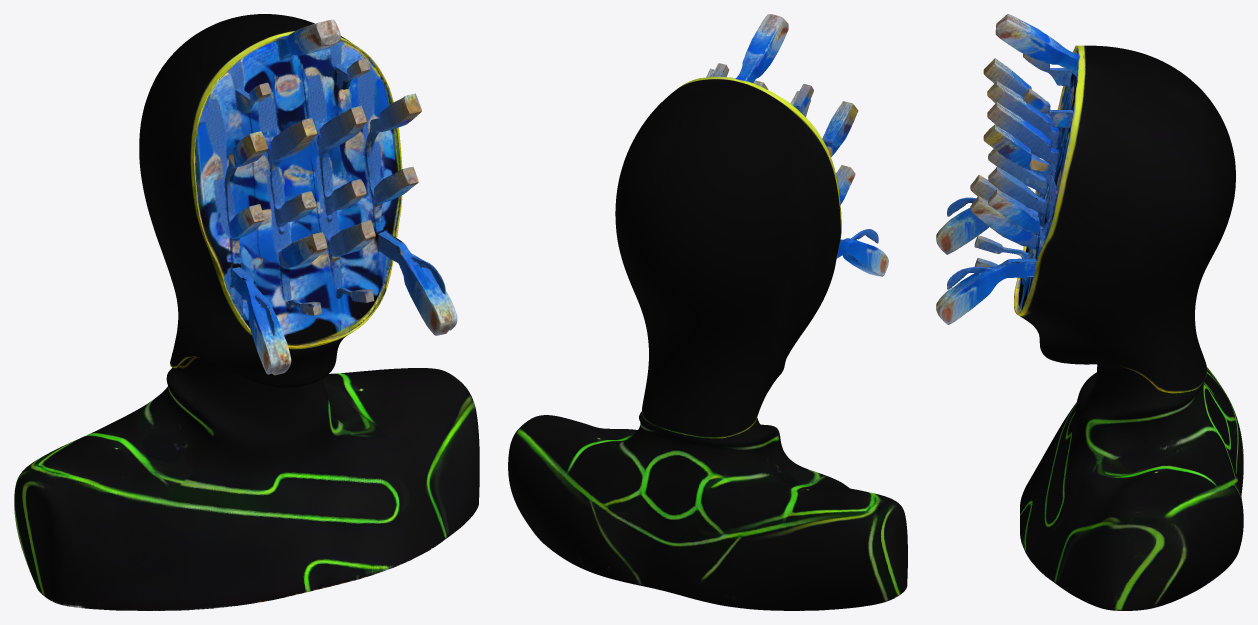
Rendered from base_basic_pbr.glb.
3 views of the same model, side by side, from view 1: azimuth 30°, elevation 25°; view 2: azimuth 150°, elevation 25°; view 3: azimuth 270°, elevation 25° (orthographic). The views are drawn at different scales.
Visible parts, largest first — view 1: model; view 2: model; view 3: model.
Part boxes in pixels (x1,y1,x2,y2): model: (14, 14, 479, 610); model: (508, 14, 907, 610); model: (936, 14, 1243, 610).
Size of the model in its own units: 0.4275 by 0.55 by 0.3047.
1 material, 1 textured.
